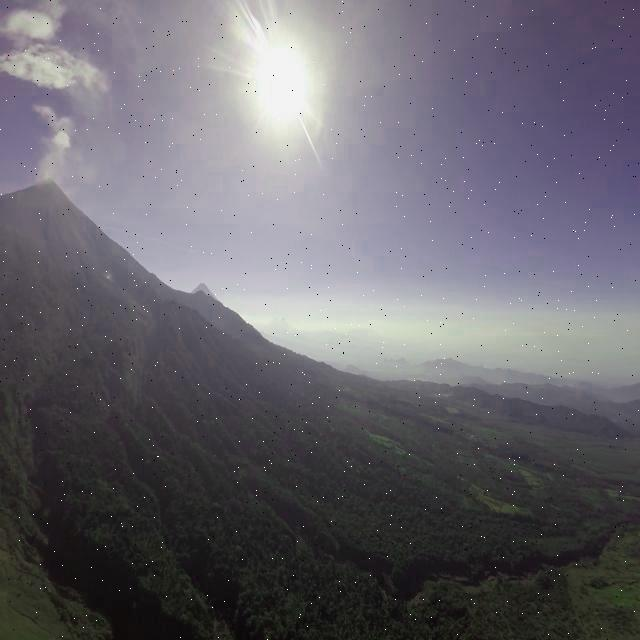Plume: (33, 100, 80, 187), (2, 46, 89, 92), (2, 1, 66, 46)
Summit: (27, 170, 64, 193)
